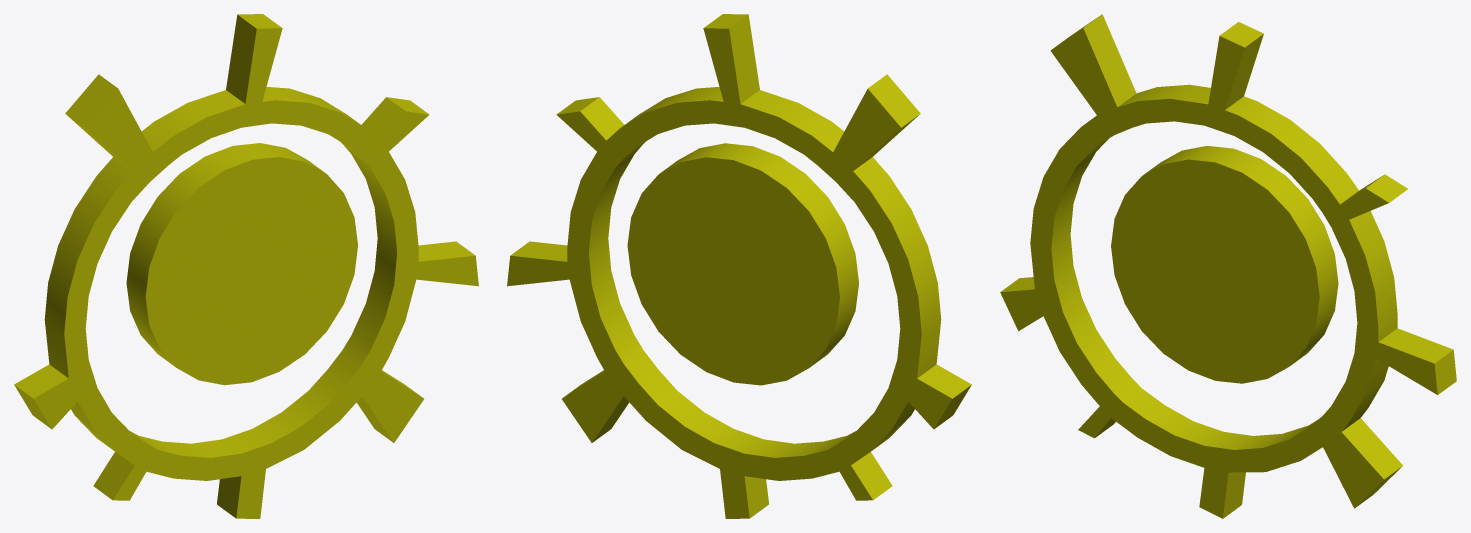
Rendered from lobby_bg_1.glb.
3 renders of one model, left to right at view 1: azimuth 30°, elevation 25°; view 2: azimuth 150°, elevation 25°; view 3: azimuth 330°, elevation 25°, orthographic.
Parts seen in each view (by area): view 1: gear2; view 2: gear2; view 3: gear2.
Boxes of the visible parts, x1,y1,x2,y2 form: gear2: [14, 14, 478, 518]; gear2: [507, 14, 971, 518]; gear2: [1000, 14, 1456, 518].
Bounding box in the file's own units: 0.6487 × 0.6833 × 0.0492.
Materials: 1 (1 with a texture image).
